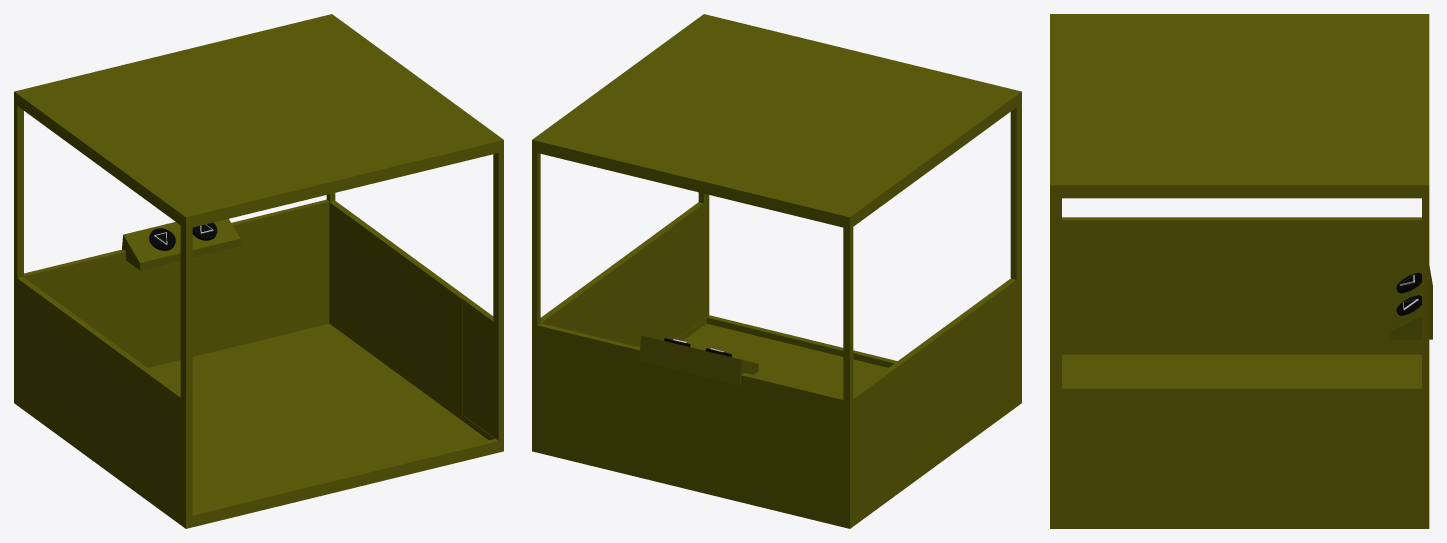
The model's file is Elevador.fbx.
3 views of the same model, side by side, from view 1: azimuth 30°, elevation 25°; view 2: azimuth 150°, elevation 25°; view 3: azimuth 270°, elevation 25° (orthographic). The views are drawn at different scales.
Visible parts, largest first — view 1: Cabina; view 2: Cabina; view 3: Cabina.
Part boxes in pixels (x1,y1,x2,y2): Cabina: (14,14,503,528); Cabina: (532,14,1021,528); Cabina: (1050,14,1432,528).
Bounding box in the file's own units: 5.86 × 5.48 × 5.53.
